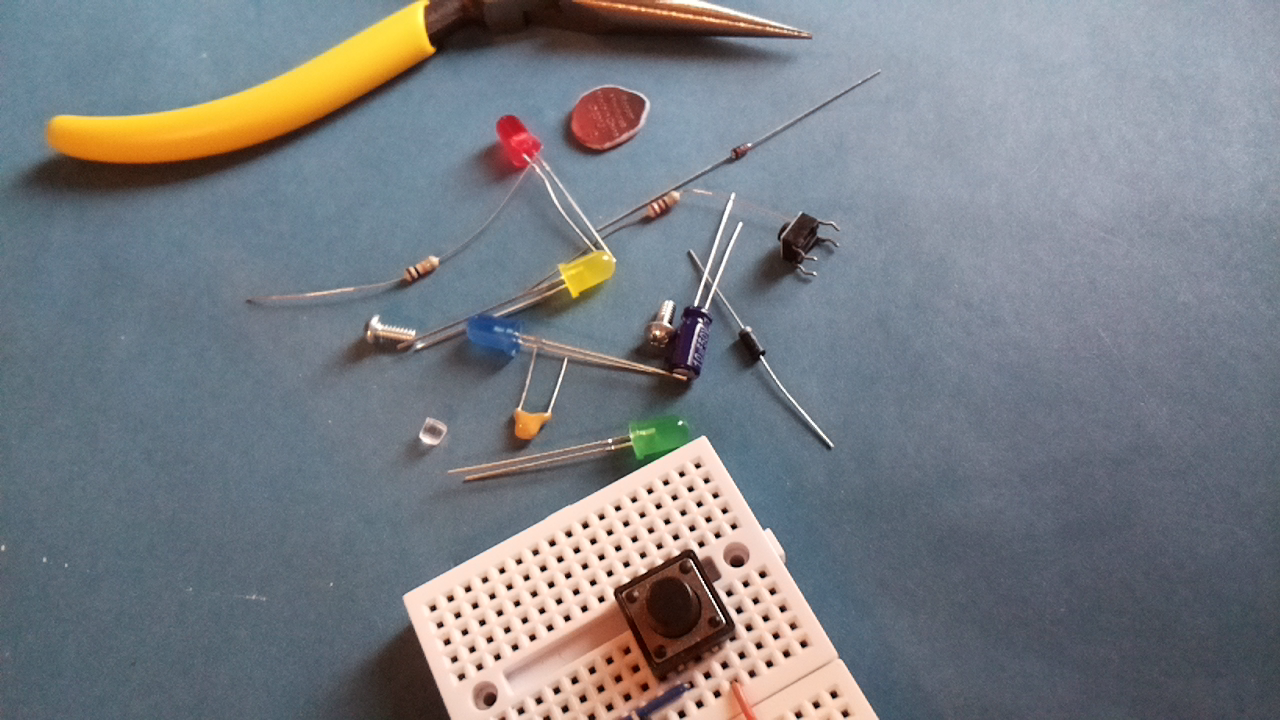button: (612, 549, 740, 687), (776, 209, 823, 266)
capacitor: (670, 301, 714, 381), (508, 403, 554, 442)
diode: (738, 323, 768, 362), (728, 140, 753, 162)
led: (625, 412, 694, 462), (557, 246, 617, 301), (462, 311, 524, 358), (496, 113, 544, 171)
resistor: (646, 189, 683, 222), (403, 254, 442, 284)
